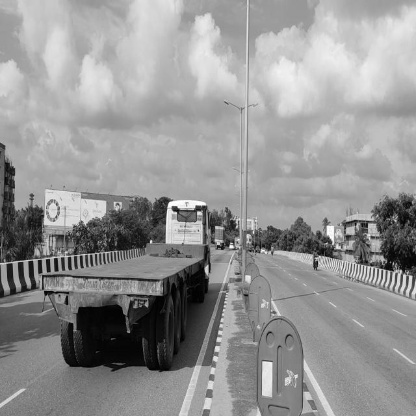truck: (36, 194, 211, 365)
